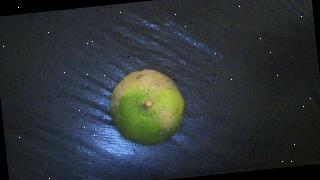DESECHO: (107, 66, 189, 149)
